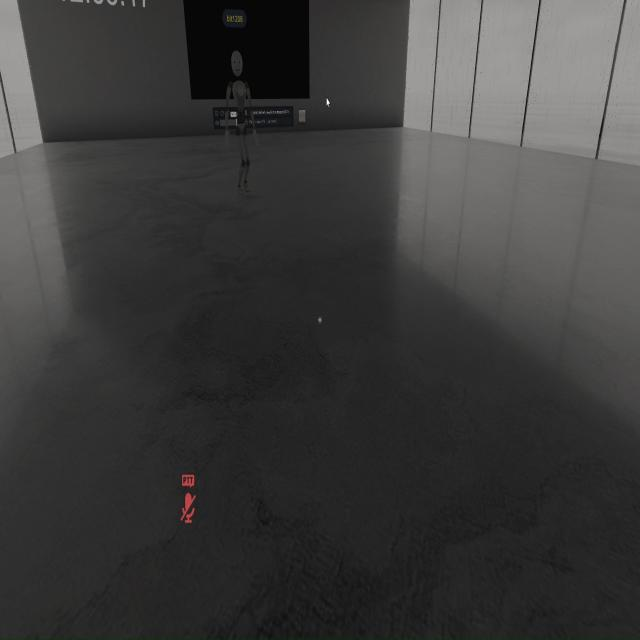human: (223, 51, 256, 206)
